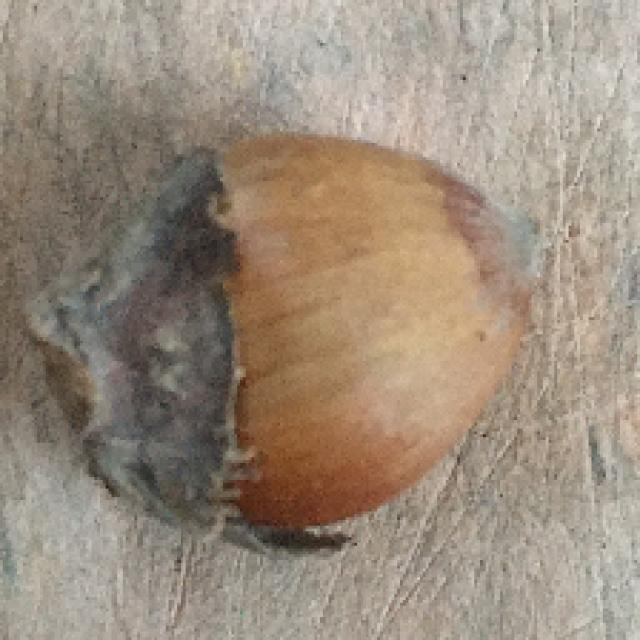DamagedHazelnut: (27, 136, 541, 557)
